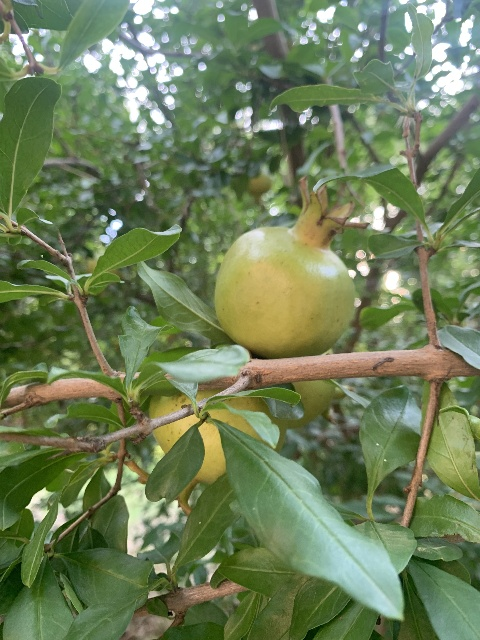mid-growth: (213, 173, 367, 359), (149, 388, 286, 516), (286, 379, 355, 428), (247, 173, 273, 206)
